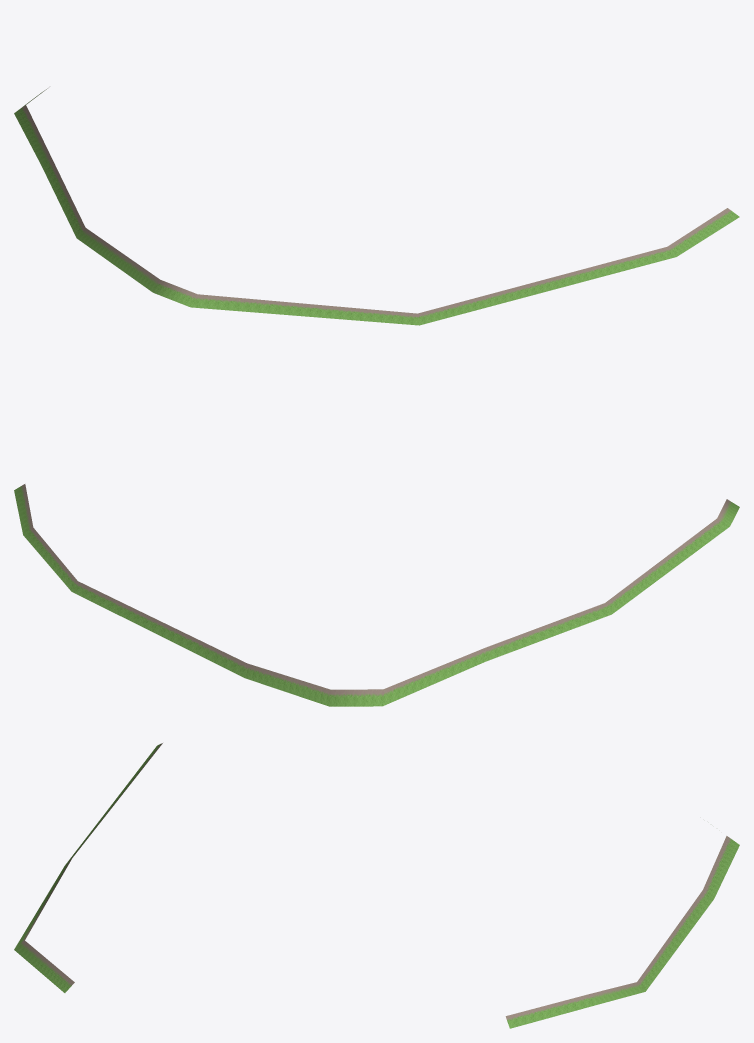
File: kd_stage_1364a3_7_20.glb
3 renders of one model, top to bottom at view 1: azimuth 30°, elevation 25°; view 2: azimuth 150°, elevation 25°; view 3: azimuth 270°, elevation 25°, orthographic. The views are drawn at different scales.
Parts seen in each view (by area): view 1: kd_stage_1364a3_7_20; view 2: kd_stage_1364a3_7_20; view 3: kd_stage_1364a3_7_20.
Boxes of the visible parts, bbox=[...] form: kd_stage_1364a3_7_20: bbox=[14, 88, 739, 325]; kd_stage_1364a3_7_20: bbox=[14, 484, 739, 706]; kd_stage_1364a3_7_20: bbox=[14, 743, 739, 1028].
Size of the model in its own units: 266 by 19.72 by 278.
Materials: 1 (1 with a texture image).
